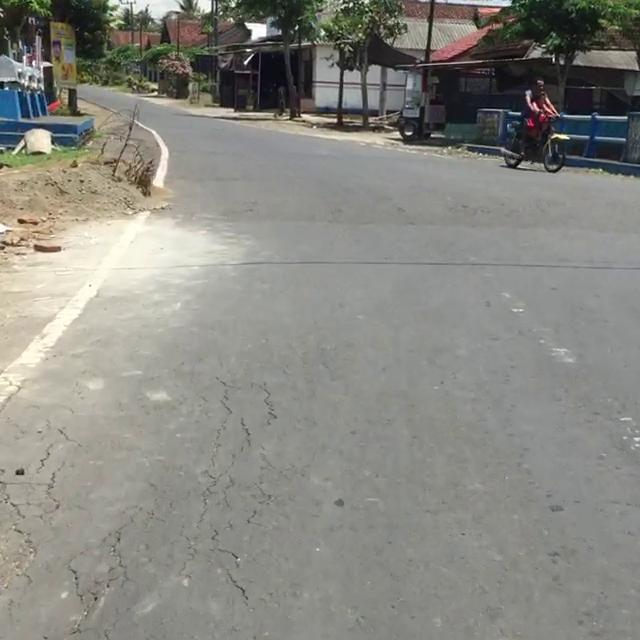retak_kulit_buaya: (83, 357, 284, 617), (0, 435, 68, 628)
